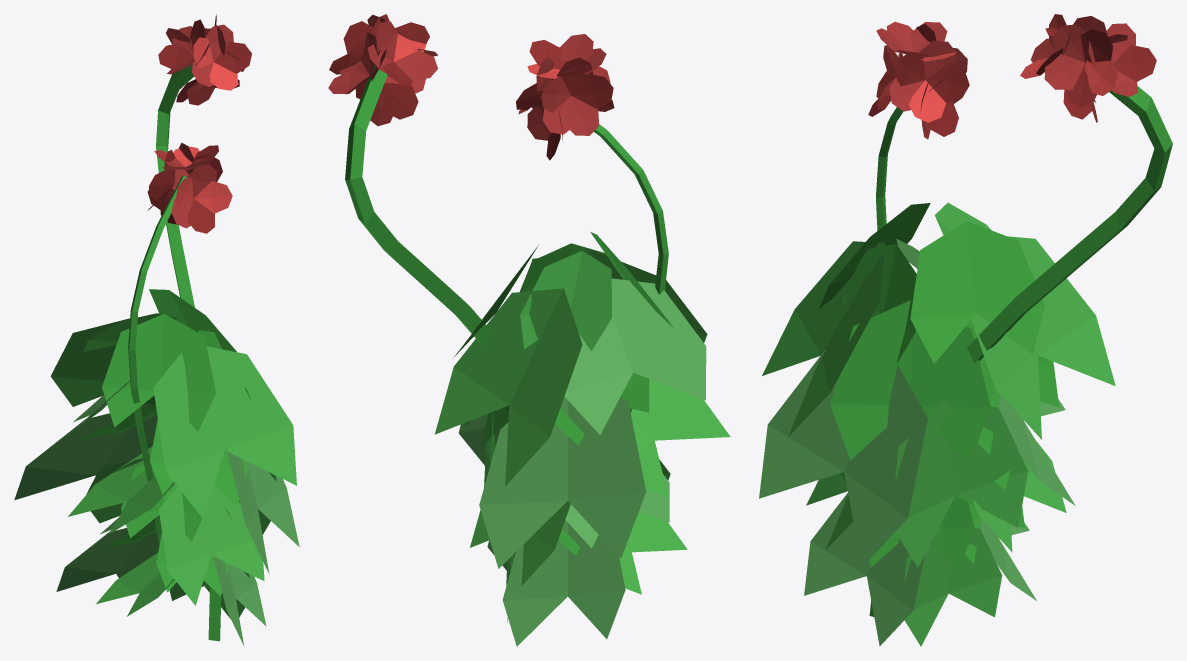
File: Geranium.fbx
The picture shows the model from 3 angles, left to right: view 1: azimuth 30°, elevation 25°; view 2: azimuth 150°, elevation 25°; view 3: azimuth 270°, elevation 25°; orthographic projection. The views are drawn at different scales.
Visible parts, largest first — view 1: BezierCurve.002; view 2: BezierCurve.002; view 3: BezierCurve.002.
Boxes of the visible parts, bbox=[...] form: BezierCurve.002: bbox=[14, 14, 299, 646]; BezierCurve.002: bbox=[328, 14, 730, 646]; BezierCurve.002: bbox=[759, 14, 1172, 646].
Size of the model in its own units: 8.15 by 16.95 by 9.75.
